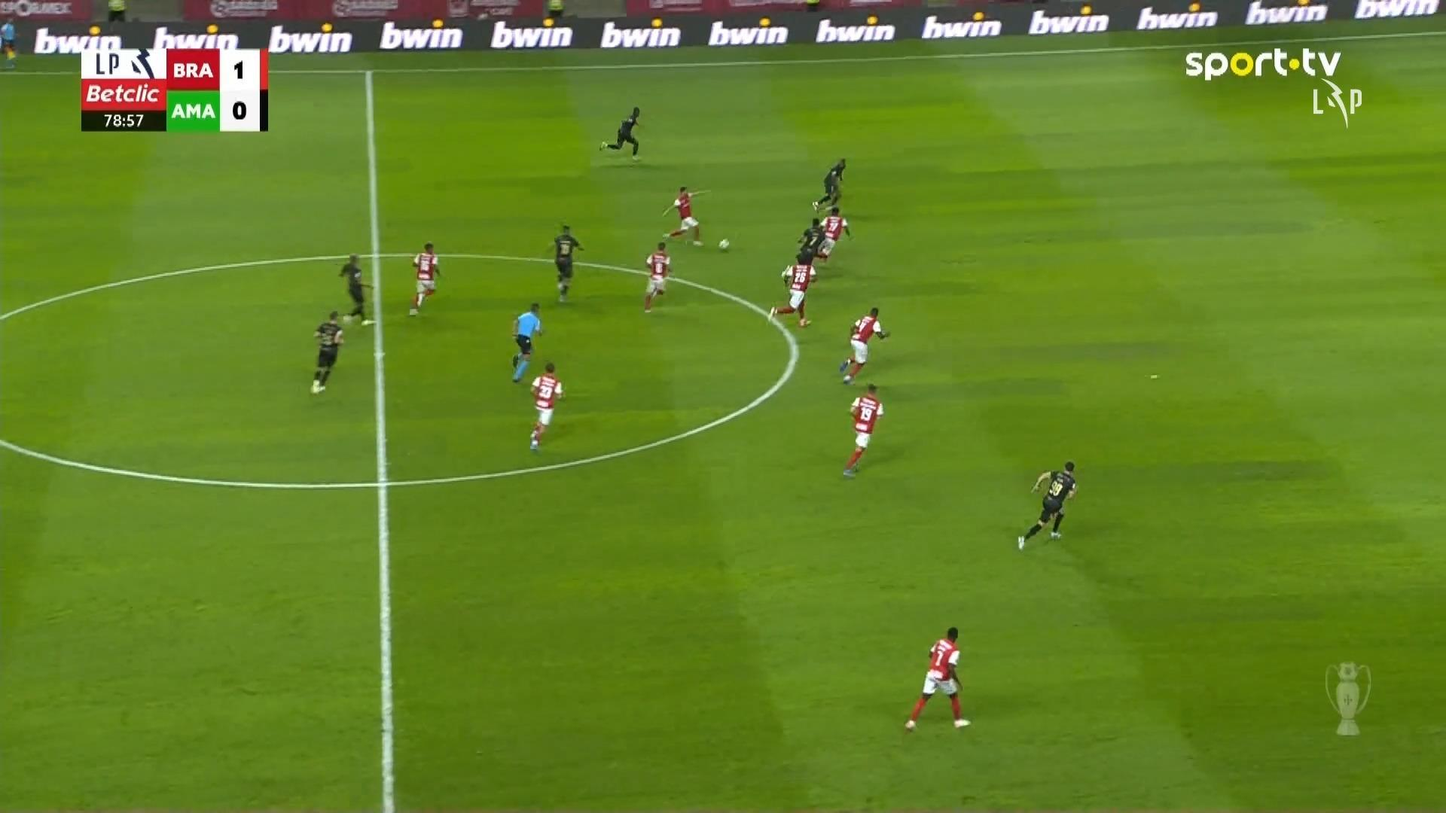ball: (718, 238, 728, 250)
player: (904, 626, 972, 731), (1016, 460, 1078, 550), (841, 382, 884, 477), (839, 306, 890, 385), (767, 250, 816, 327), (529, 361, 564, 450), (660, 185, 709, 245), (310, 309, 344, 394), (549, 223, 584, 303), (337, 253, 374, 325), (407, 242, 441, 316), (598, 105, 642, 160), (642, 240, 673, 313), (813, 205, 853, 261), (810, 157, 846, 212), (796, 217, 828, 260)
referee: (510, 301, 542, 382), (0, 15, 18, 76)
